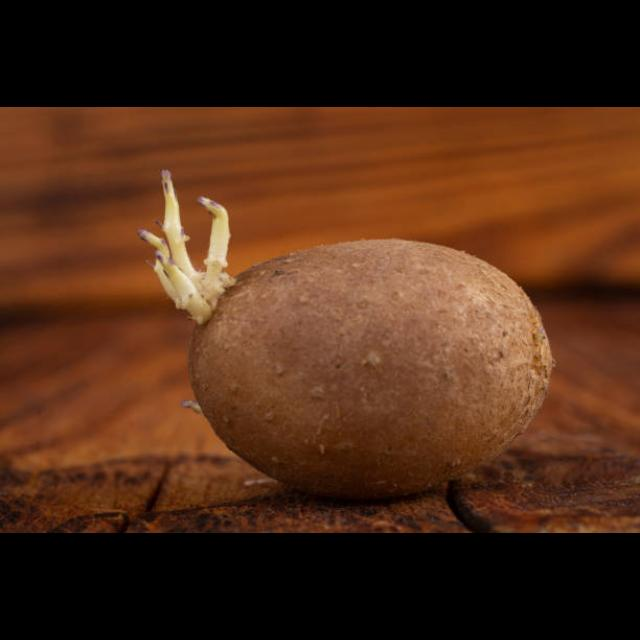Sprouted potato: (138, 168, 574, 506)
